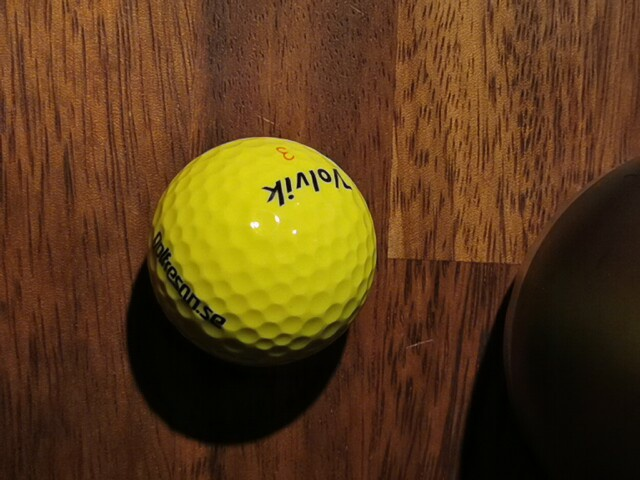Ball: (147, 136, 376, 368)
Volvik: (262, 168, 352, 206)
